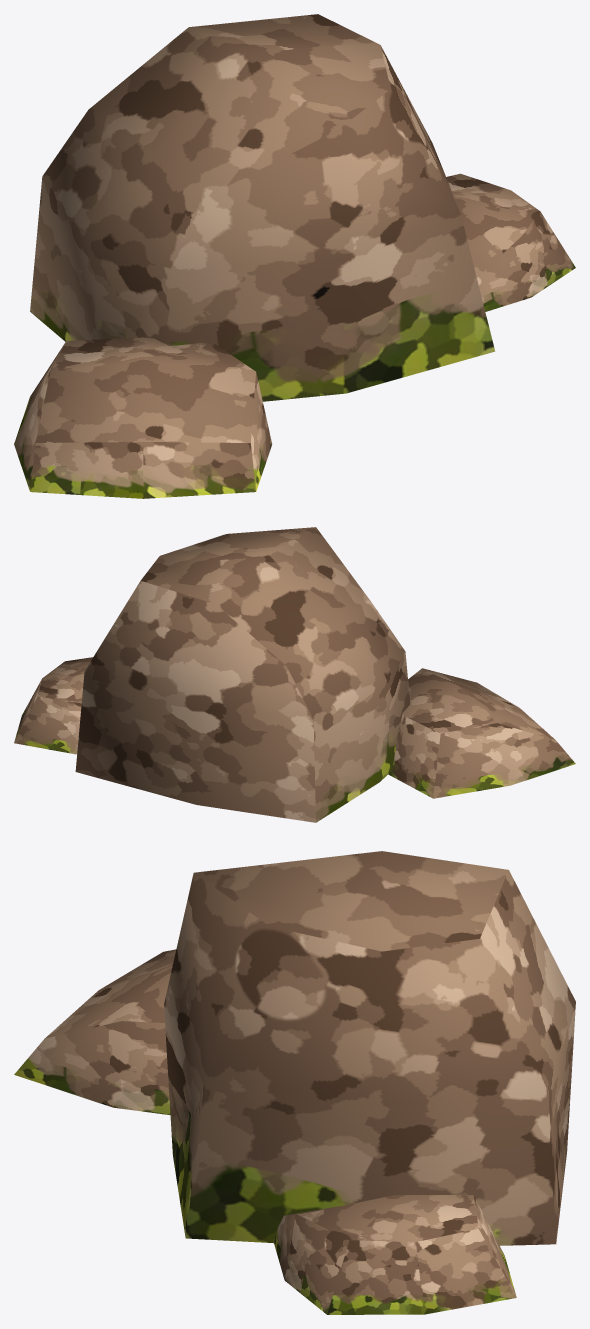
Rendered from rock_04.FBX.
3 renders of one model, top to bottom at view 1: azimuth 30°, elevation 25°; view 2: azimuth 150°, elevation 25°; view 3: azimuth 270°, elevation 25°, orthographic. The views are drawn at different scales.
Parts seen in each view (by area): view 1: Piedra001; view 2: Piedra001; view 3: Piedra001.
Boxes of the visible parts, left/top/right/bottom form: Piedra001: left=14, top=14, right=575, bottom=498; Piedra001: left=14, top=527, right=575, bottom=822; Piedra001: left=14, top=851, right=575, bottom=1314.
Size of the model in its own units: 1.69 by 1.18 by 0.7161.
Materials: 1 (1 with a texture image).
